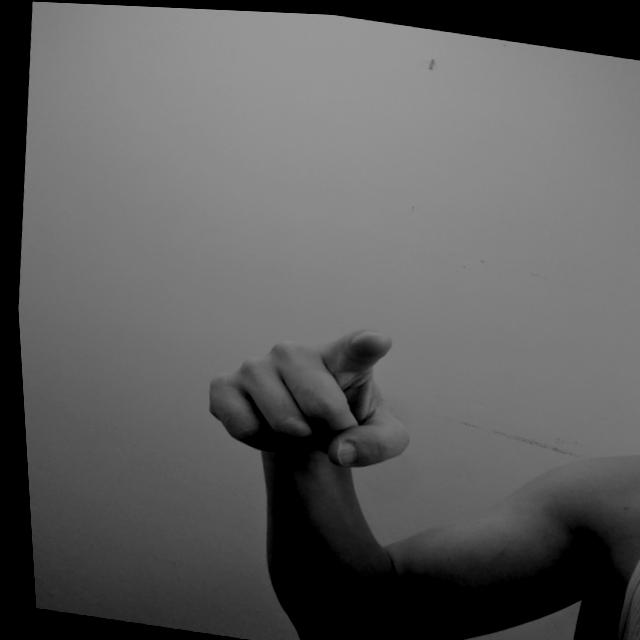Z: (187, 296, 424, 479)
